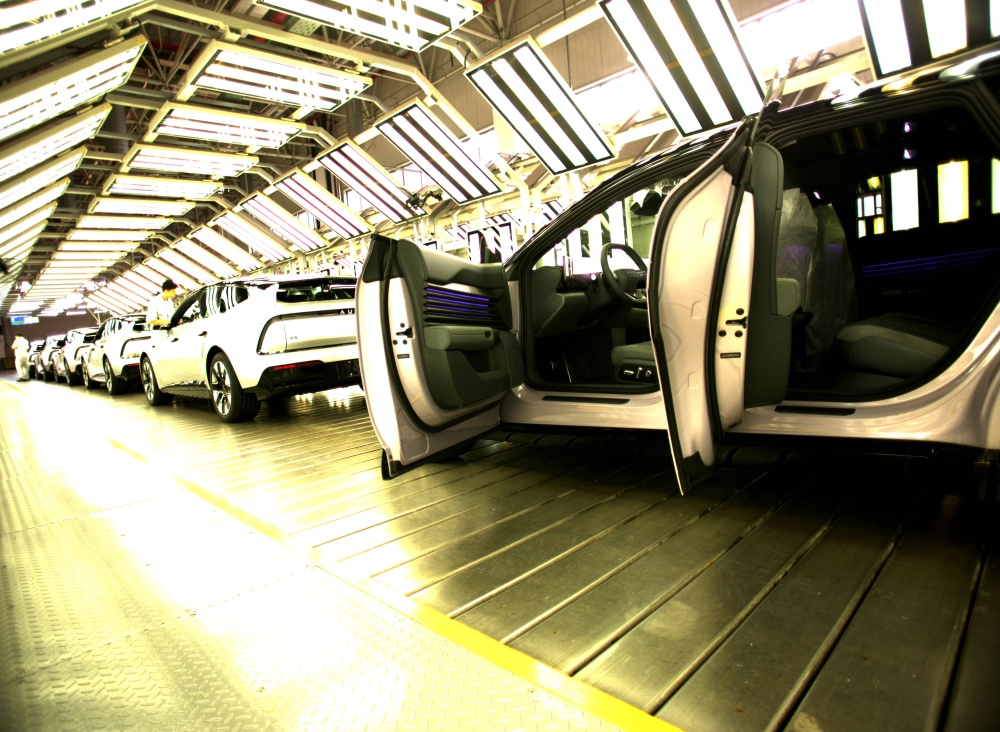armrest_color: (422, 325, 497, 351)
panel_color: (420, 278, 495, 328)
